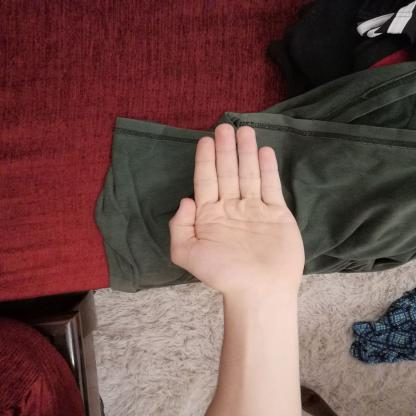SEEN: (158, 117, 314, 300)
